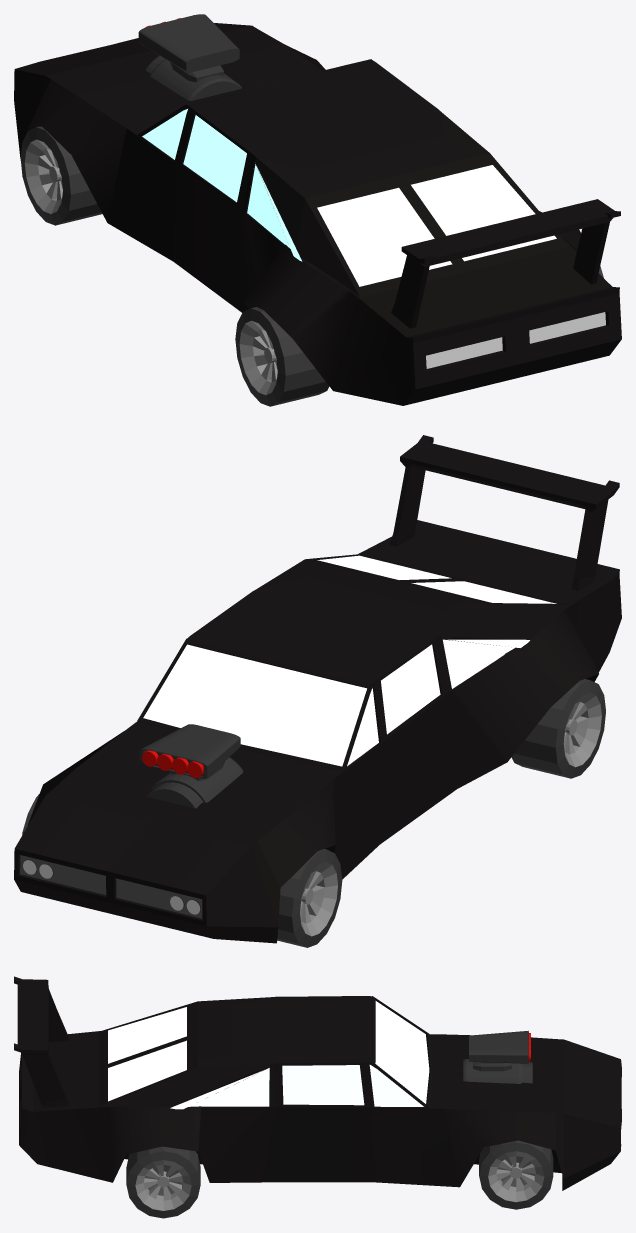
The model's file is car.glb.
3 renders of one model, top to bottom at view 1: azimuth 30°, elevation 25°; view 2: azimuth 150°, elevation 25°; view 3: azimuth 270°, elevation 25°, orthographic. The views are drawn at different scales.
Parts seen in each view (by area): view 1: Cube.001, LeftBack, LeftFront; view 2: Cube.001, LeftBack, LeftFront; view 3: Cube.001, RightBack, RightFront.
Part boxes in pixels (x1,y1,x2,y2): Cube.001: (14, 14, 621, 405); LeftBack: (235, 307, 329, 406); LeftFront: (20, 126, 102, 225); Cube.001: (14, 435, 621, 943); LeftBack: (511, 679, 605, 778); LeftFront: (277, 849, 342, 947); Cube.001: (14, 976, 621, 1190); RightBack: (126, 1146, 200, 1218); RightFront: (479, 1140, 553, 1209).
Size of the model in its own units: 8.37 by 5 by 18.44.
